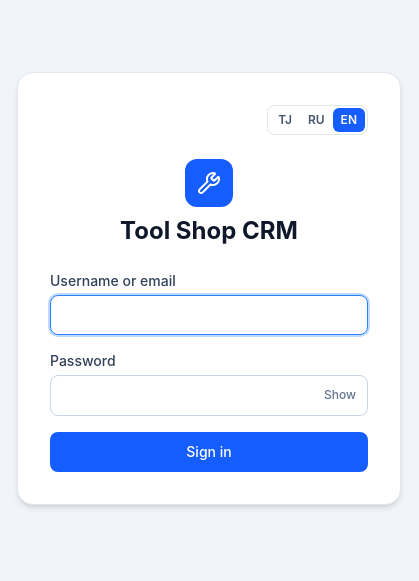
Test: Login with MFA › a recovery code can be used instead of the app code; 429 shows the throttle message
Type "boss" into the field labelled "Username or email". click: [209, 315]
box: [50,294,368,335]
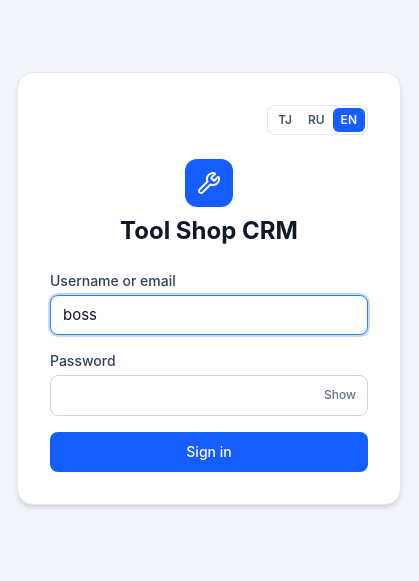
Type "a long passphrase here" into the password field labelled "Password". click: [209, 395]
box: [50,375,368,416]
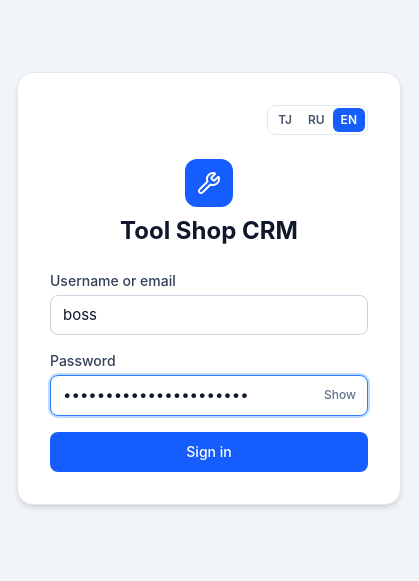
Click the button "Sign in". click: [209, 452]
box: [50,432,368,472]
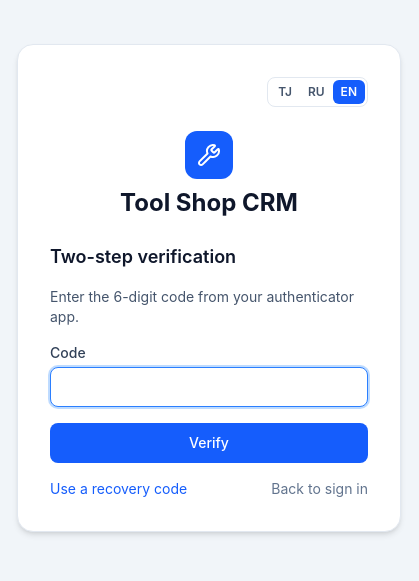
Click the button "Use a recovery code". click: [119, 489]
box: [50,479,187,499]
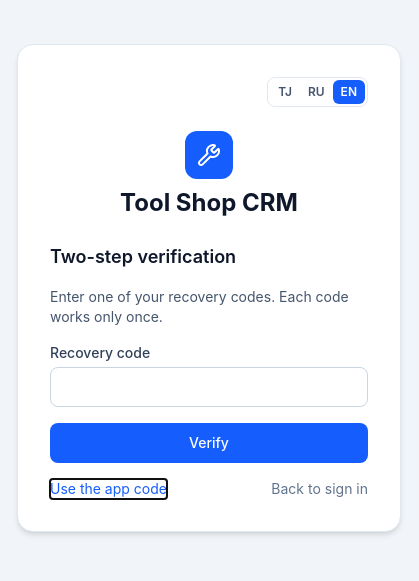
Type "abcde-fghij" into the field labelled "Recovery code". click: [209, 387]
box: [50,367,368,407]
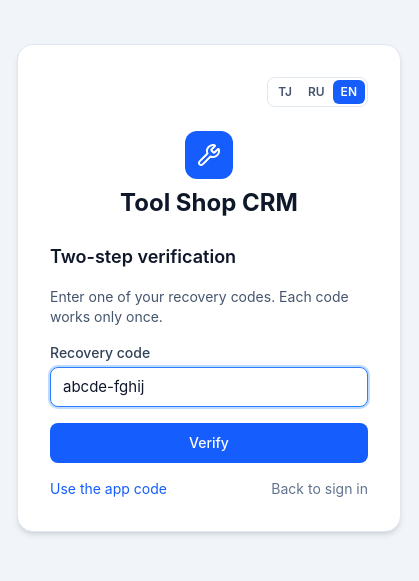
Click the button "Verify". click: [209, 443]
box: [50,423,368,463]
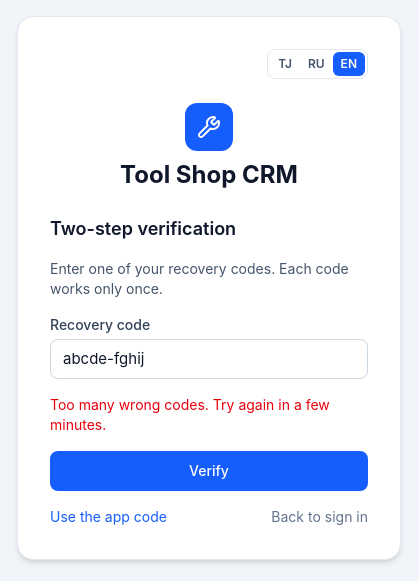
Check: the message reads "Too many wrong codes. Try again in a few minutes.", box [50,396,330,433]
